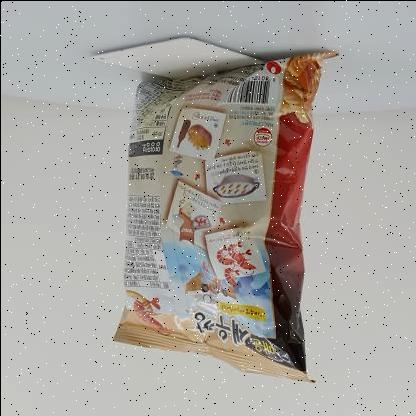Others: (108, 43, 332, 397)
